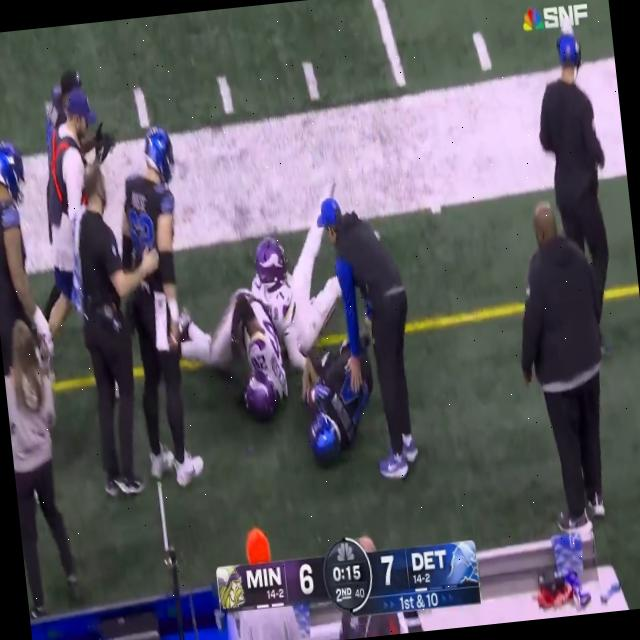Player: (116, 127, 213, 500), (293, 322, 382, 472), (191, 285, 282, 422), (248, 214, 332, 350), (0, 126, 51, 342)
